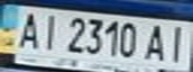0: (118, 19, 142, 60)
1: (103, 18, 121, 57)
2: (63, 14, 87, 54)
3: (81, 16, 106, 56)
A: (12, 9, 45, 50), (142, 20, 172, 63)
I: (163, 22, 193, 63), (36, 10, 63, 51)
